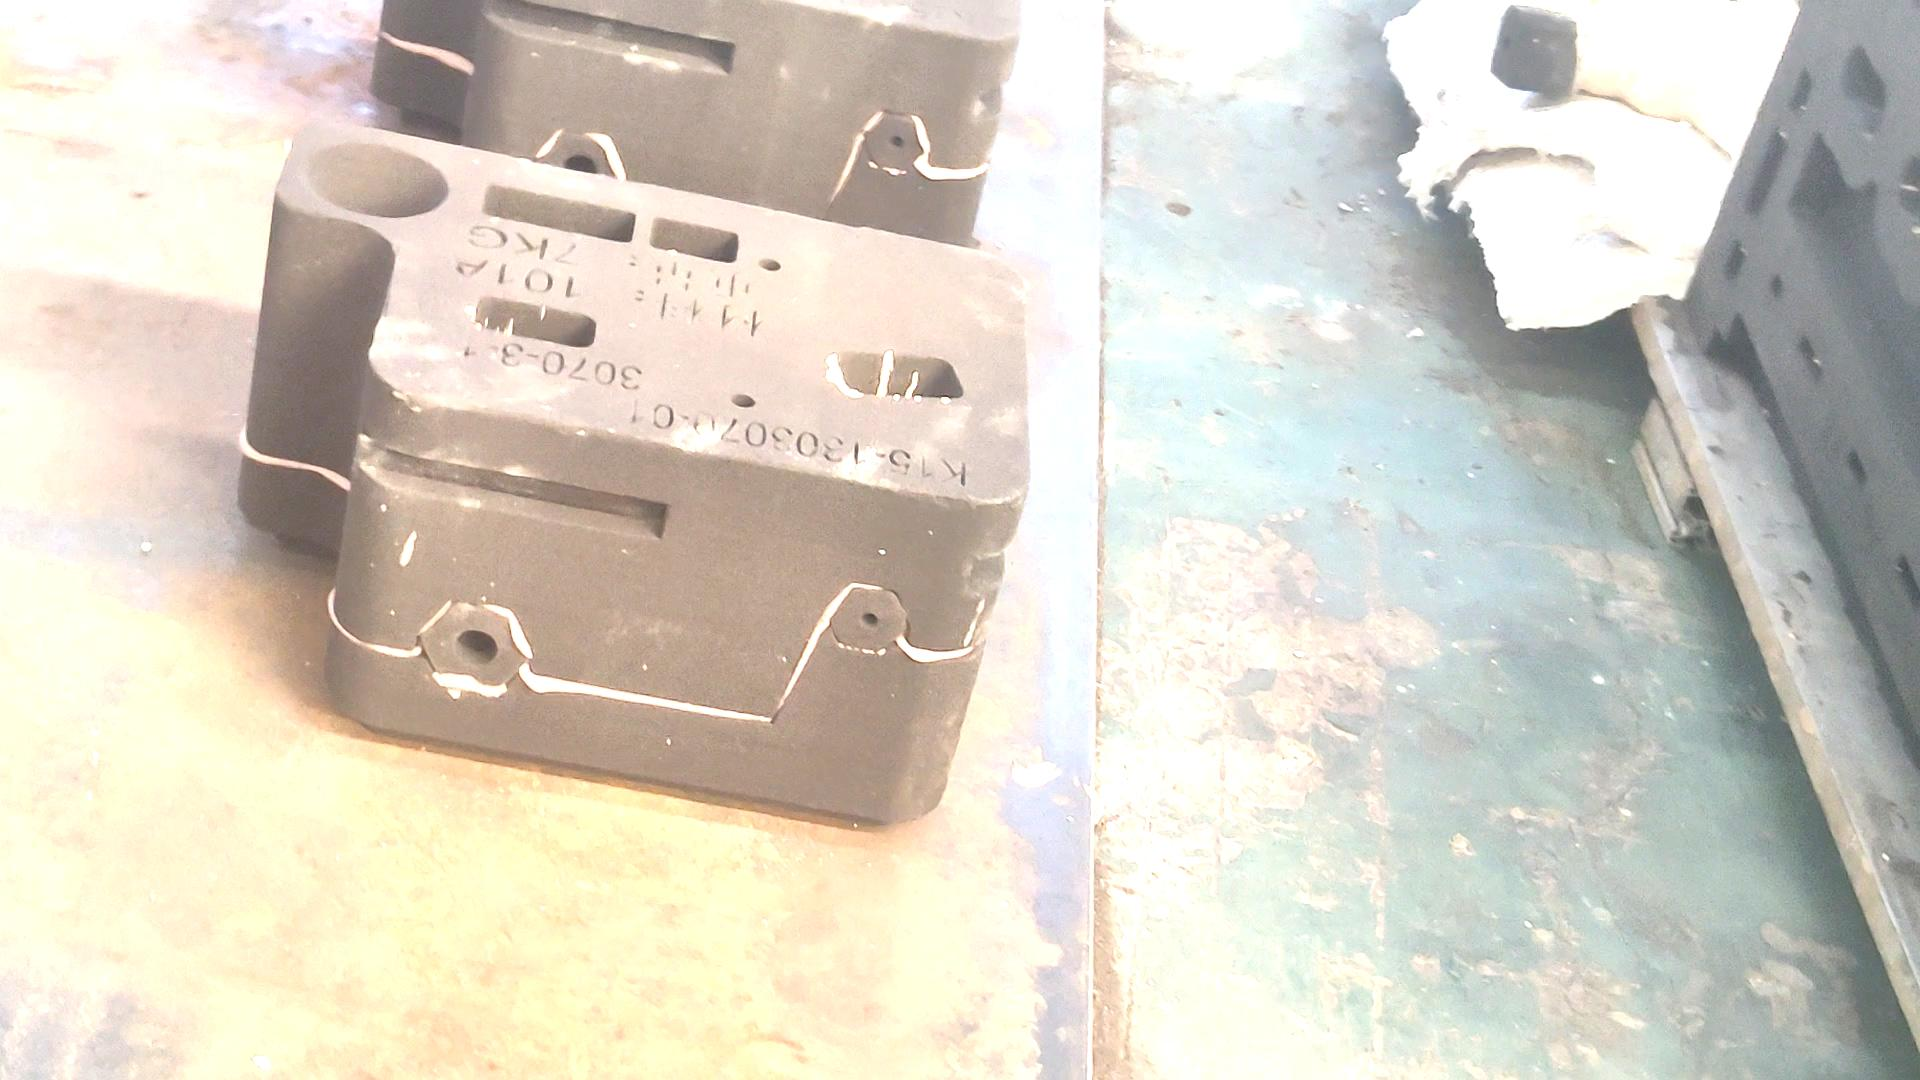pouring hole: (302, 140, 447, 218)
